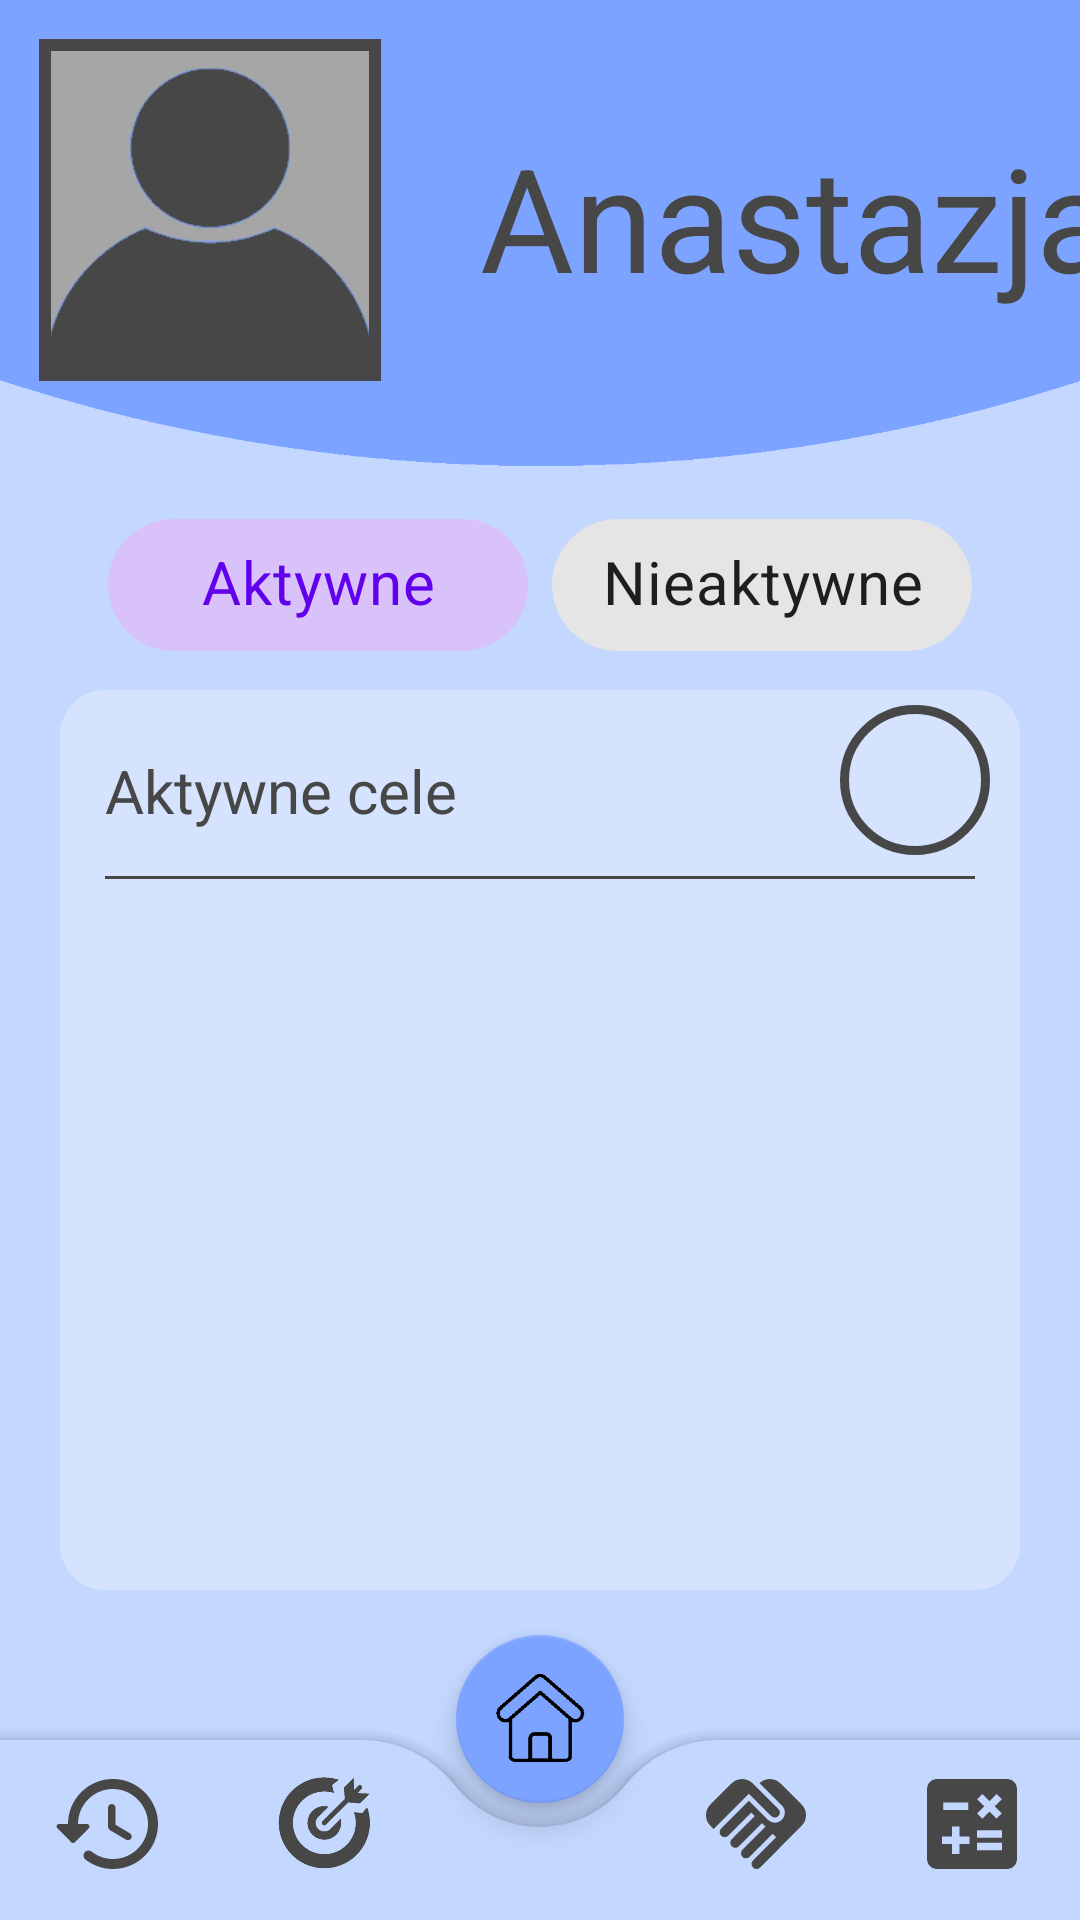

Locate icon controls on the screen. Image size 1080*1920, boxes as [x1, y1, x2, y2].
calculator: [927, 1779, 1017, 1869]
coop: [706, 1779, 806, 1869]
history: [56, 1779, 158, 1869]
home: [456, 1656, 624, 1824]
no photo user: [39, 39, 381, 381]
target: [278, 1777, 370, 1868]
